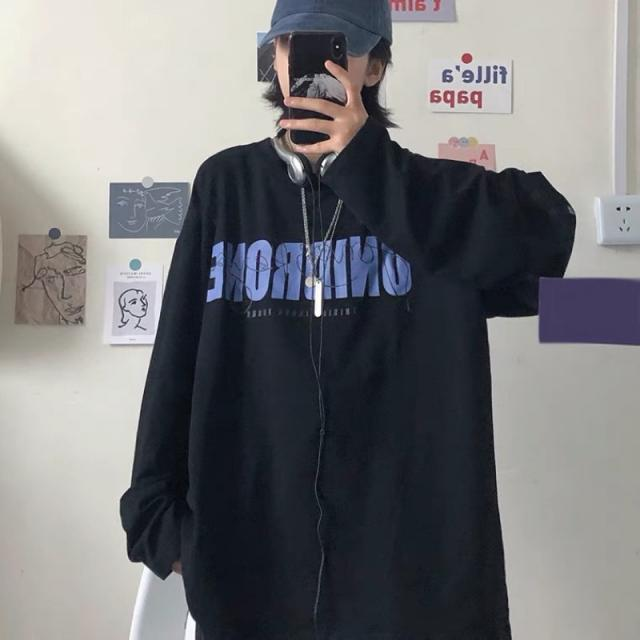Shirt: (121, 145, 574, 638)
